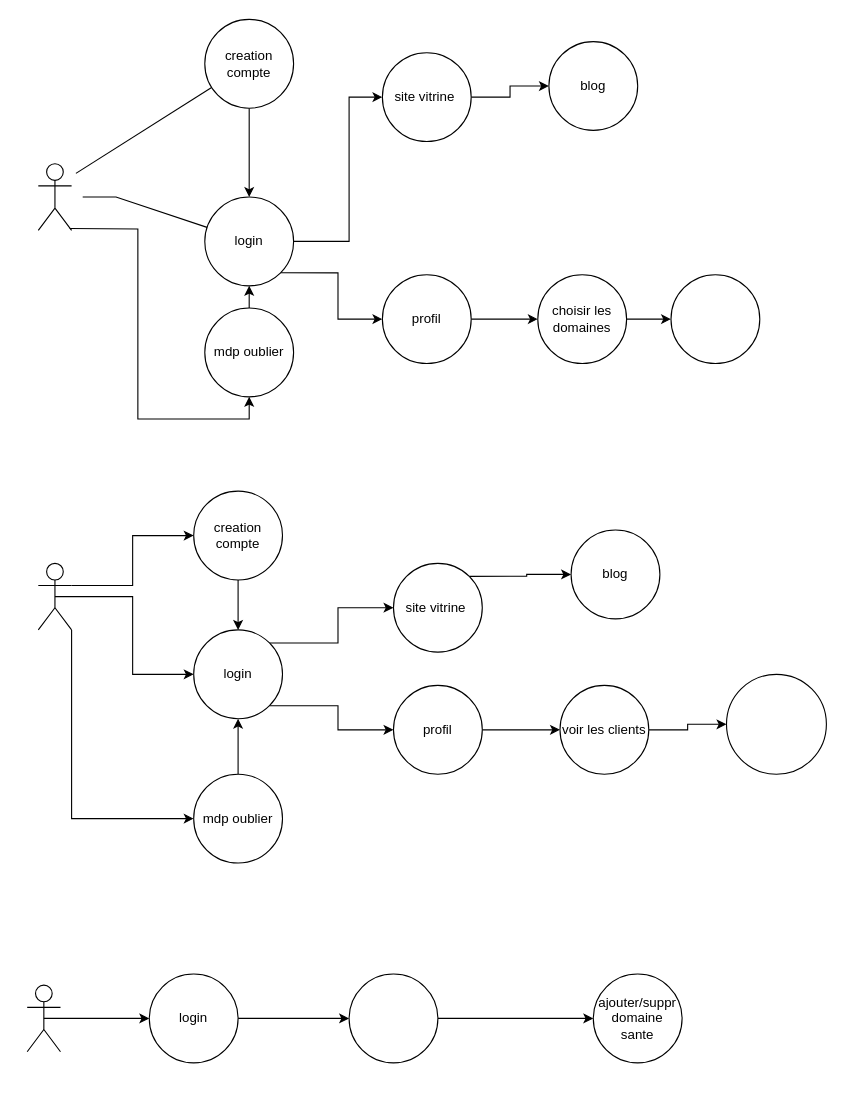
Some shapes in this 846 by 1094 pixel diagram are drawn without their labels. The shapes that lost their labels are listed below. From the top down, each one's centre as x and y in pixels, then its label:
At point (54, 196): "Actor".
At point (715, 319): "CRUD".
At point (54, 596): "professionel".
At point (775, 723): "envoyer msg".
At point (43, 1018): "admin".
At point (393, 1018): "valider les professionelle sante".
